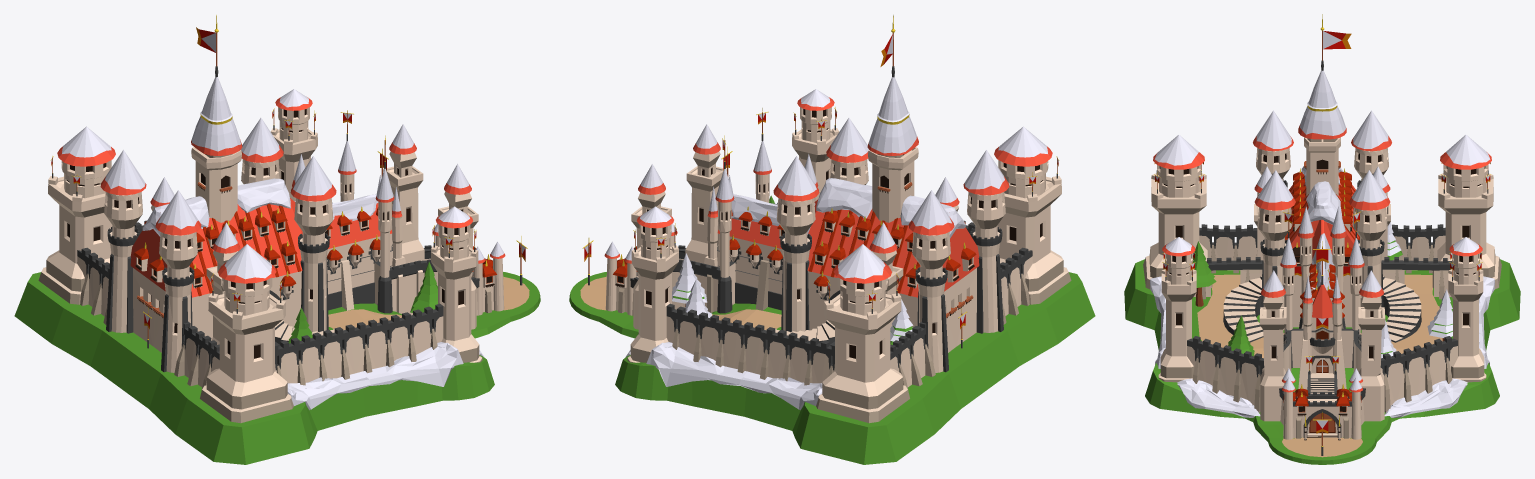
File: castle.glb
3 renders of one model, left to right at view 1: azimuth 30°, elevation 25°; view 2: azimuth 150°, elevation 25°; view 3: azimuth 270°, elevation 25°, orthographic. The views are drawn at different scales.
Visible parts, largest first — view 1: Castle; view 2: Castle; view 3: Castle.
Boxes of the visible parts, left/top/right/bottom form: Castle: left=14, top=15, right=540, bottom=464; Castle: left=569, top=15, right=1095, bottom=464; Castle: left=1124, top=14, right=1520, bottom=464.
Size of what is drawn, in the model's own units: 38 by 30.32 by 34.79.
1 material, 1 textured.
